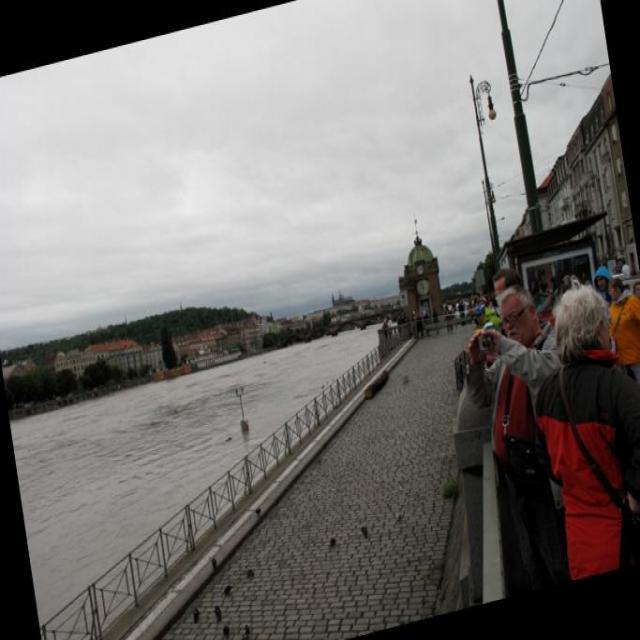flood: (8, 317, 406, 622)
